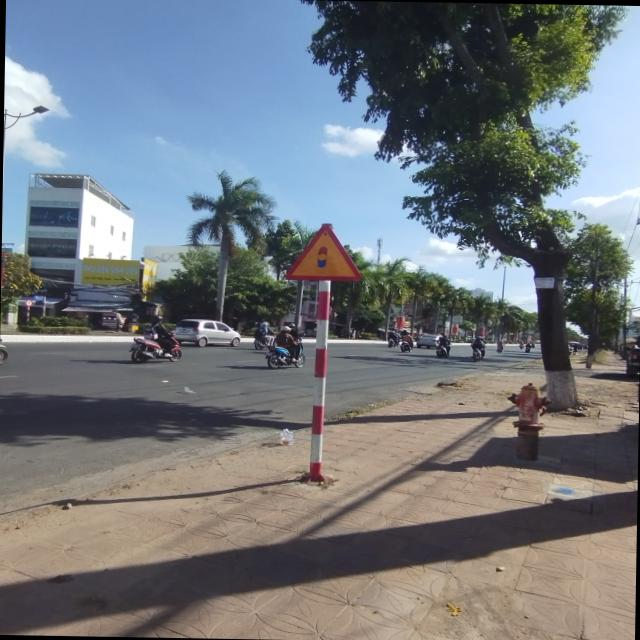Duong_Co_Go_Giam_Toc: (284, 221, 364, 281)
